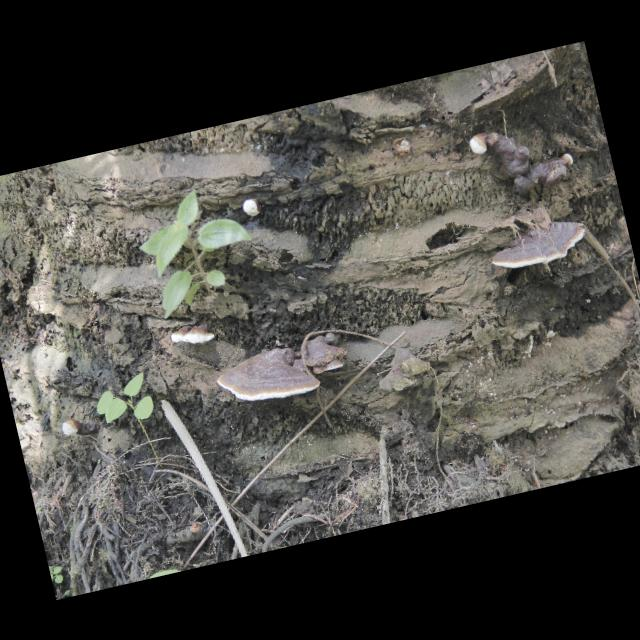ganoderma: (214, 341, 323, 413), (487, 119, 571, 202), (486, 215, 591, 277), (296, 331, 351, 379), (169, 320, 217, 350)
primordium: (469, 133, 491, 158), (243, 198, 264, 219), (63, 420, 82, 439), (561, 153, 576, 168)
